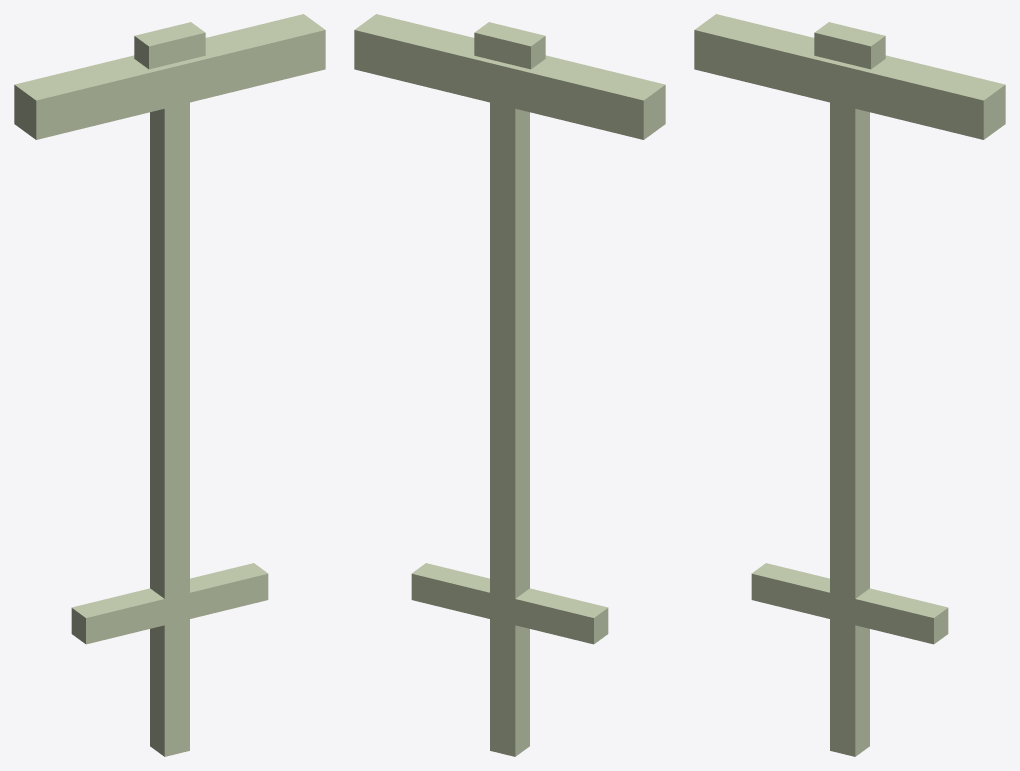
File: furniture_signal_cantilever_dropper_single.glb
The picture shows the model from 3 angles, left to right: view 1: azimuth 30°, elevation 25°; view 2: azimuth 150°, elevation 25°; view 3: azimuth 330°, elevation 25°; orthographic projection.
Parts seen in each view (by area): view 1: dropper_center, hanger_beam, cross_tie, clamp_center; view 2: dropper_center, hanger_beam, cross_tie, clamp_center; view 3: dropper_center, hanger_beam, cross_tie, clamp_center.
Part boxes in pixels (<box>): dropper_center: <box>150,102,189,756</box>; hanger_beam: <box>14,14,325,139</box>; cross_tie: <box>71,563,268,644</box>; clamp_center: <box>134,22,205,69</box>; dropper_center: <box>490,102,529,756</box>; hanger_beam: <box>354,14,665,139</box>; cross_tie: <box>411,563,608,644</box>; clamp_center: <box>474,22,545,69</box>; dropper_center: <box>830,102,869,756</box>; hanger_beam: <box>694,14,1005,139</box>; cross_tie: <box>751,563,948,644</box>; clamp_center: <box>814,22,885,69</box>.
Size of the model in its own units: 0.92 by 2.17 by 0.12.
